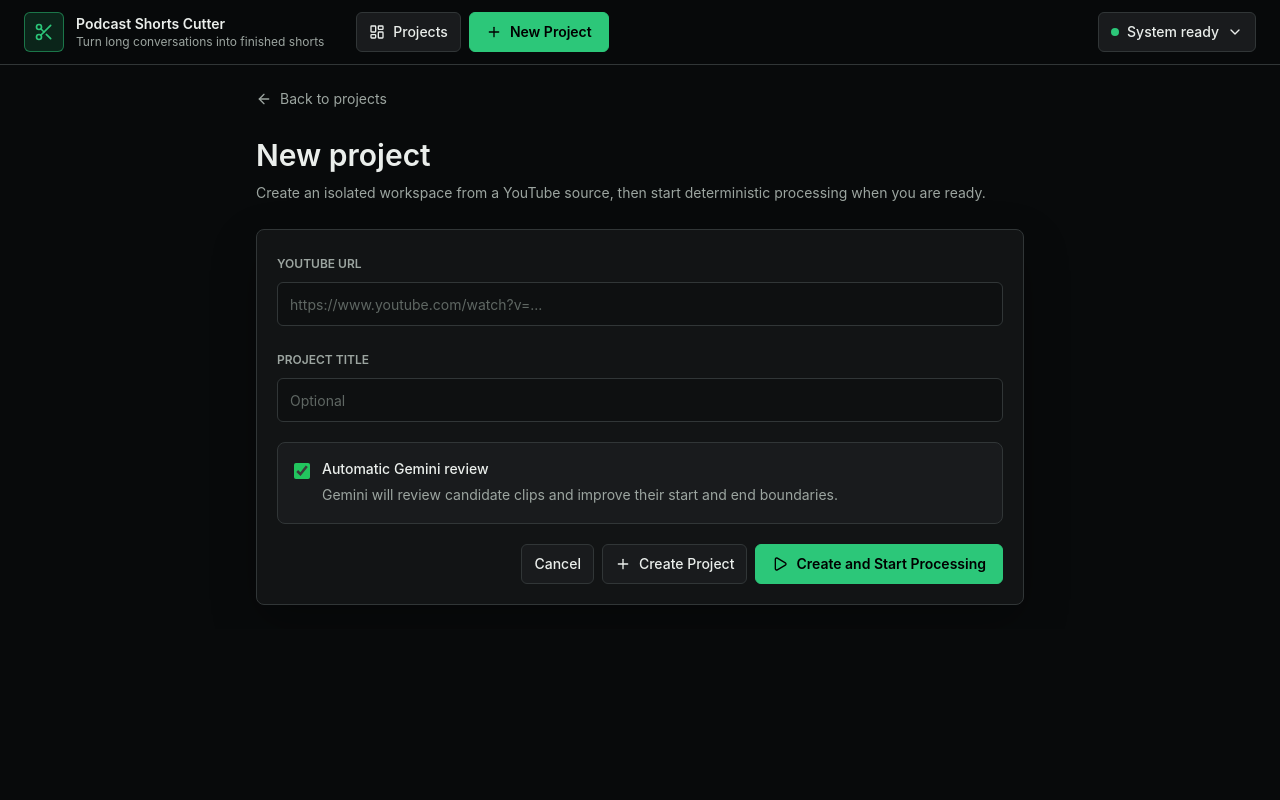
Test: Product UI › validates the new project form before submit
This screenshot has width=1280, height=800.
Step 1. Click the button "Create Project" → point(675, 564), box [602,544,748,584]
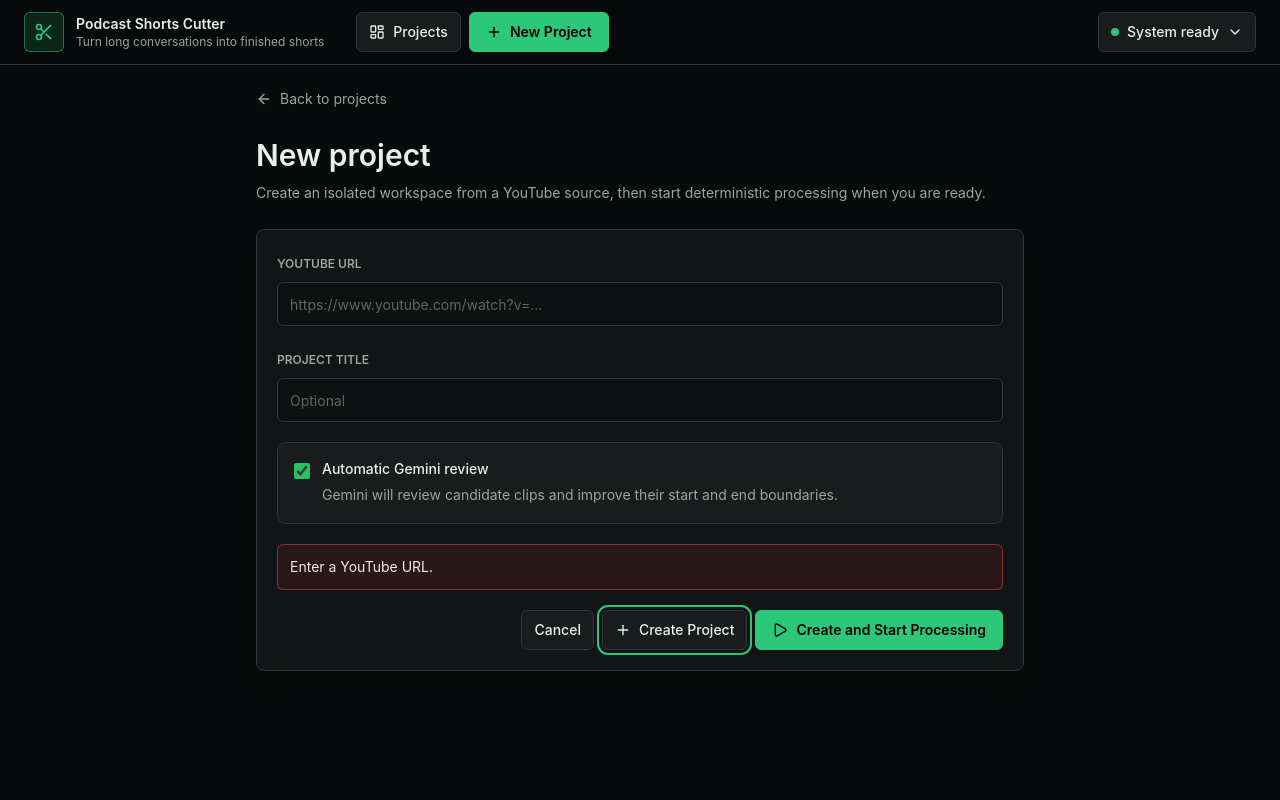
Check: the text "Enter a YouTube URL." is shown, box [277,544,1003,590]
